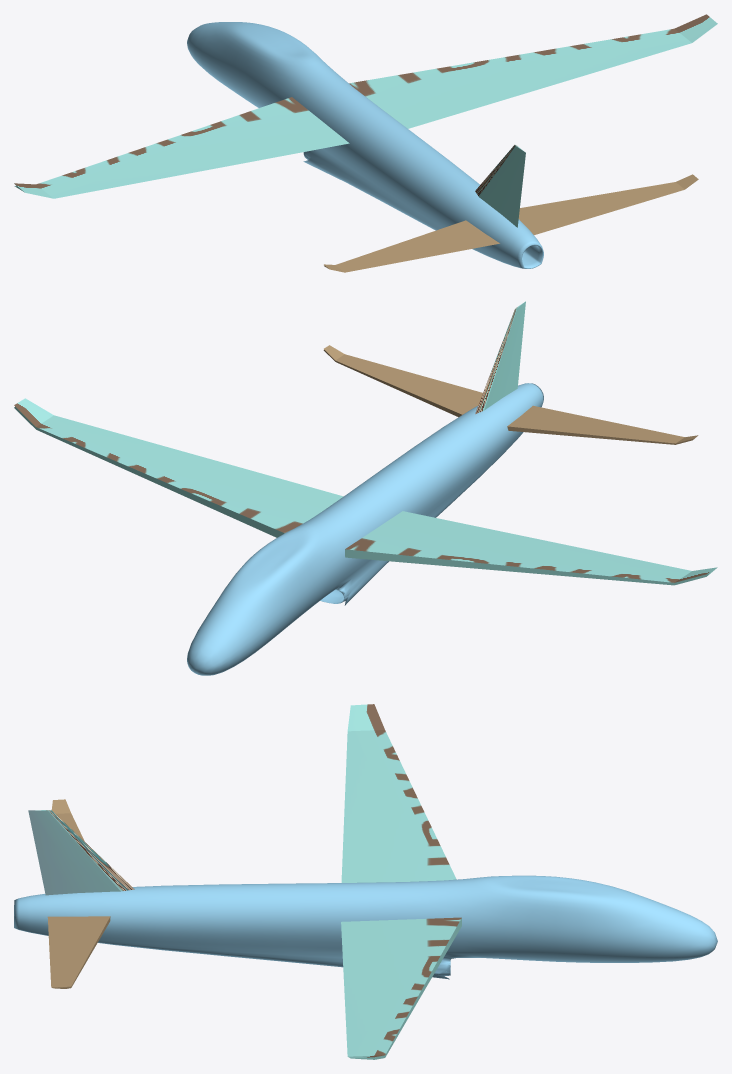
File: airwaysv1.gltf
3 views of the same model, one above another, from view 1: azimuth 30°, elevation 25°; view 2: azimuth 150°, elevation 25°; view 3: azimuth 270°, elevation 25° (orthographic). The views are drawn at different scales.
Parts seen in each view (by area): view 1: Circle, Cube, Cube.001, Cube.002; view 2: Circle, Cube, Cube.001, Cube.002; view 3: Circle, Cube, Cube.002, Cube.001.
Part boxes in pixels (x1=…): Circle: x1=187, y1=22, x2=543, y2=268; Cube: x1=14, y1=14, x2=717, y2=198; Cube.001: x1=324, y1=174, x2=698, y2=272; Cube.002: x1=475, y1=145, x2=525, y2=227; Circle: x1=187, y1=383, x2=543, y2=675; Cube: x1=14, y1=398, x2=717, y2=585; Cube.001: x1=323, y1=345, x2=698, y2=444; Cube.002: x1=475, y1=301, x2=525, y2=413; Circle: x1=14, y1=875, x2=717, y2=979; Cube: x1=341, y1=704, x2=461, y2=1059; Cube.002: x1=28, y1=810, x2=134, y2=895; Cube.001: x1=47, y1=799, x2=110, y2=988.
Bounding box in the file's own units: 23.49 × 4.96 × 19.79.
Materials: 4 (3 with a texture image).
